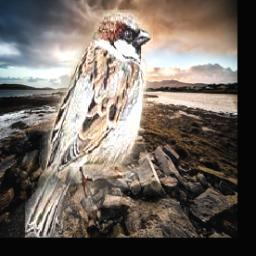Sparrow: (25, 10, 153, 238)
